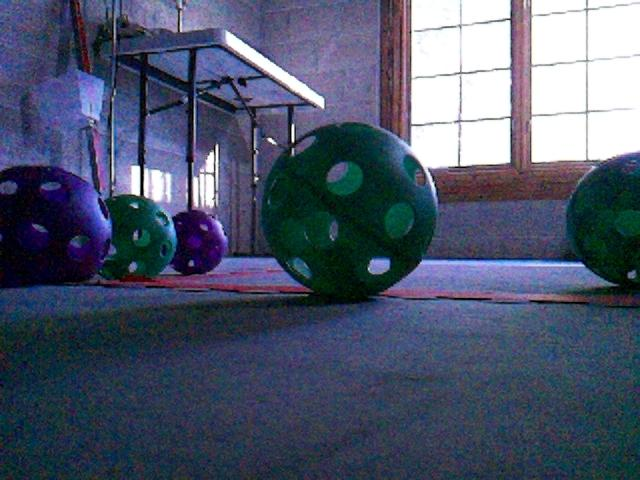Green: (259, 120, 439, 297), (564, 151, 639, 285), (99, 194, 176, 278)
Purple: (1, 164, 112, 285), (167, 209, 228, 276)
